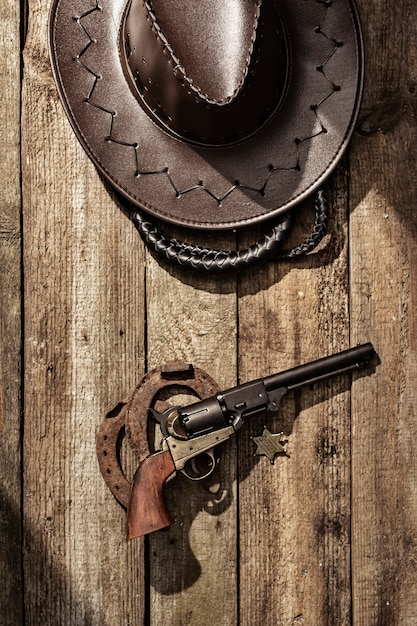gun: (124, 338, 382, 540)
